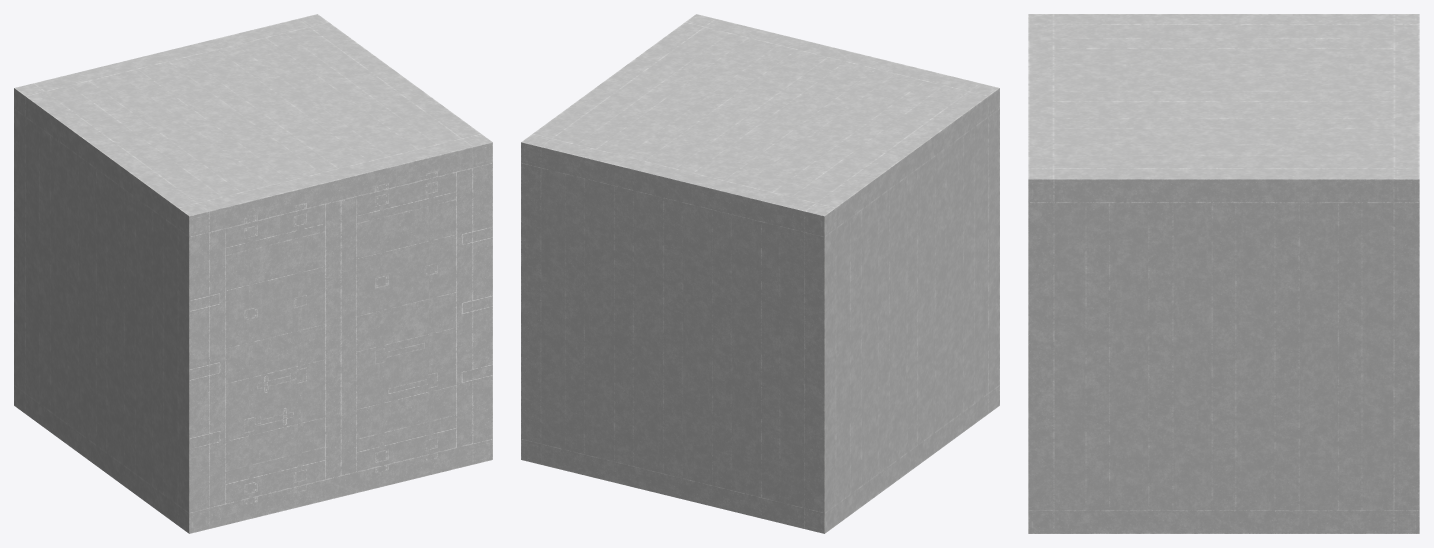
File: container.glb
3 renders of one model, left to right at view 1: azimuth 30°, elevation 25°; view 2: azimuth 150°, elevation 25°; view 3: azimuth 270°, elevation 25°, orthographic. The views are drawn at different scales.
Bounding box in the file's own units: 2.7 × 2.7 × 2.7.
1 material, 1 textured.
